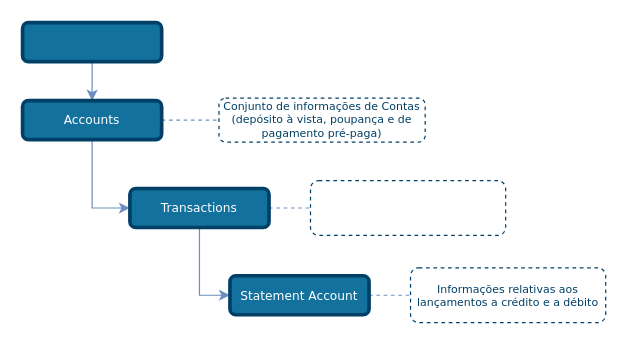
Some shapes in this 627 by 344 pixel diagram are drawn without their labels. Here are the shapes that lost their labels. From the top down, the centre of each, then its label:
(91,41): Data
(407,207): Conjunto de informações relativas às Transações: realizadas e as autorizadas
